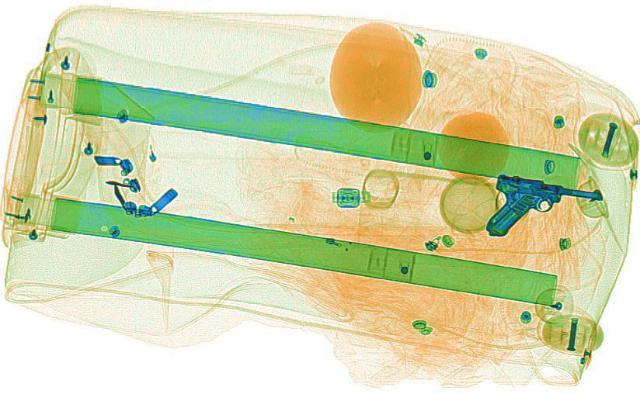Gun: (474, 171, 606, 245)
